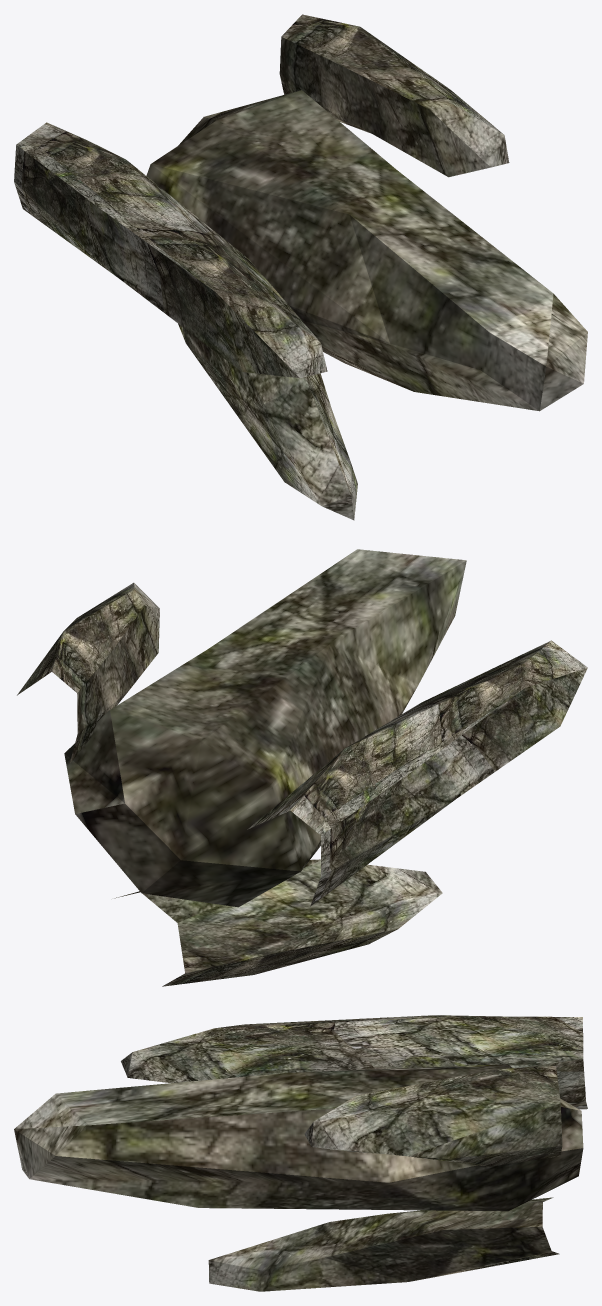
3 renders of one model, top to bottom at view 1: azimuth 30°, elevation 25°; view 2: azimuth 150°, elevation 25°; view 3: azimuth 270°, elevation 25°, orthographic. The views are drawn at different scales.
Visible parts, largest first — view 1: model_Object02; view 2: model_Object02; view 3: model_Object02.
Part boxes in pixels (left/top/right/bottom): model_Object02: left=14, top=14, right=587, bottom=520; model_Object02: left=17, top=549, right=587, bottom=986; model_Object02: left=14, top=1015, right=587, bottom=1291.
Size of the model in its own units: 4.36 by 3.91 by 7.09.
1 material, 1 textured.
